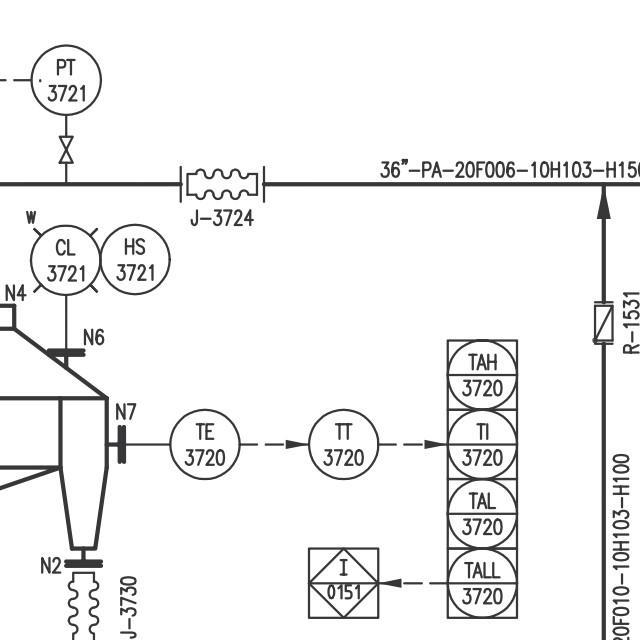CV2: (590, 296, 620, 349)
EJ: (172, 159, 270, 206), (62, 560, 116, 640)
GV: (53, 127, 80, 168)
